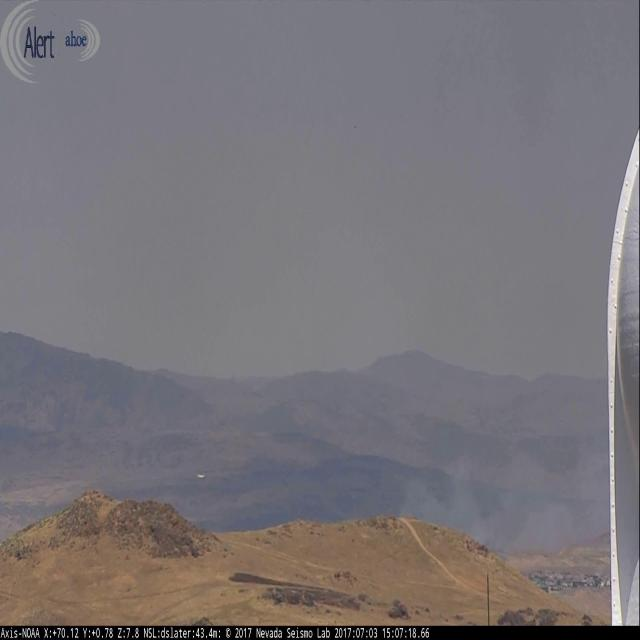smoke: (395, 428, 610, 560)
